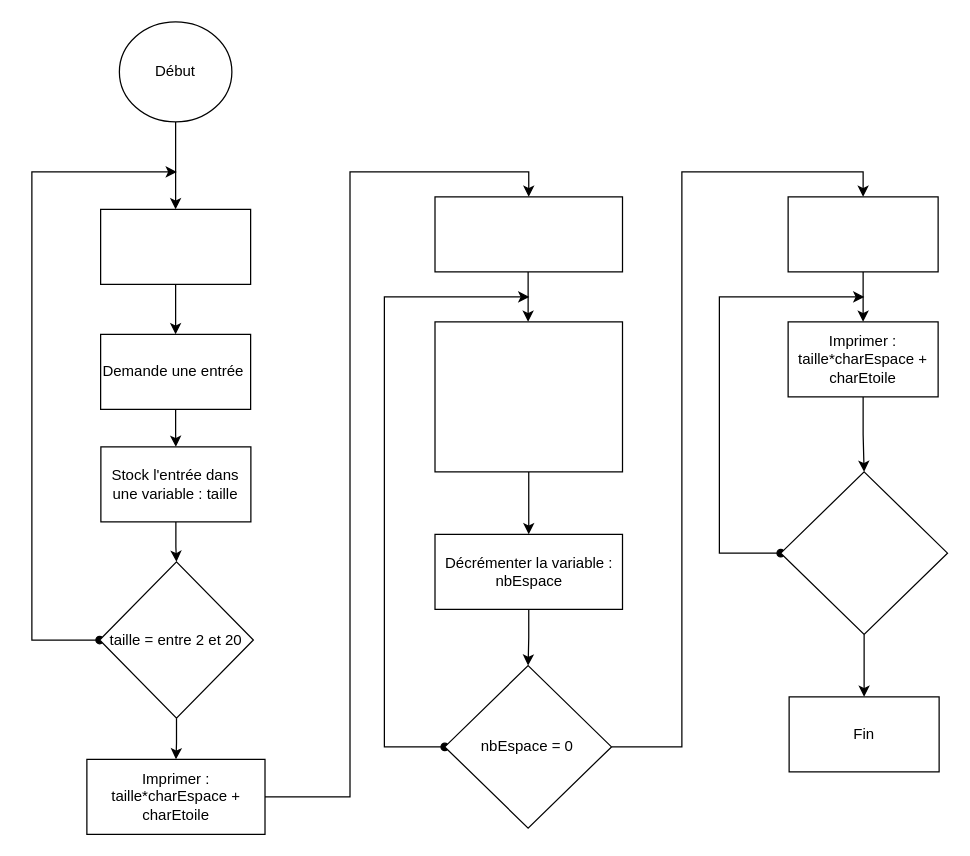
The diagram is 970 pixels wide and 856 high, and some of its shapes have lost their labels. The shapes that lost their labels are listed below. From the top down, each one's centre as x and y in pixels, then its label:
(x=175, y=246): Affiche les conditions d'entrées
(x=528, y=234): stock dans une variable: nbEspace = taille-1
(x=862, y=234): Imprimer : (taille+1)*charEtoile
(x=528, y=396): Imprimer : nbEspace*charEspace + charEtoile +taille-(2*nbEspace)*charEspace
(x=864, y=552): taille = 0
